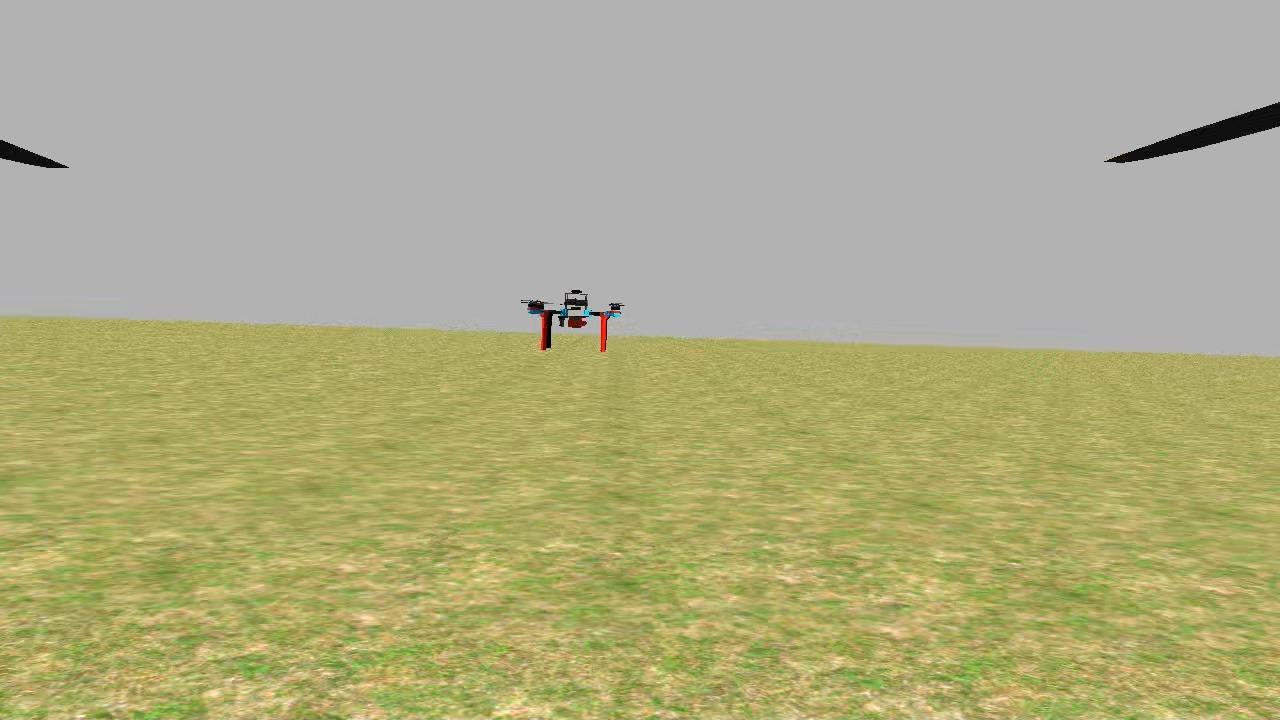UAV: (522, 287, 628, 356)
